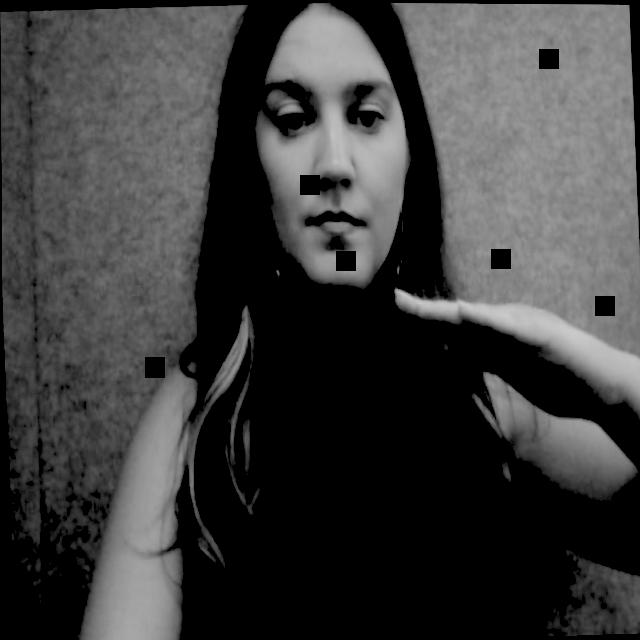Paper: (381, 262, 624, 444)
